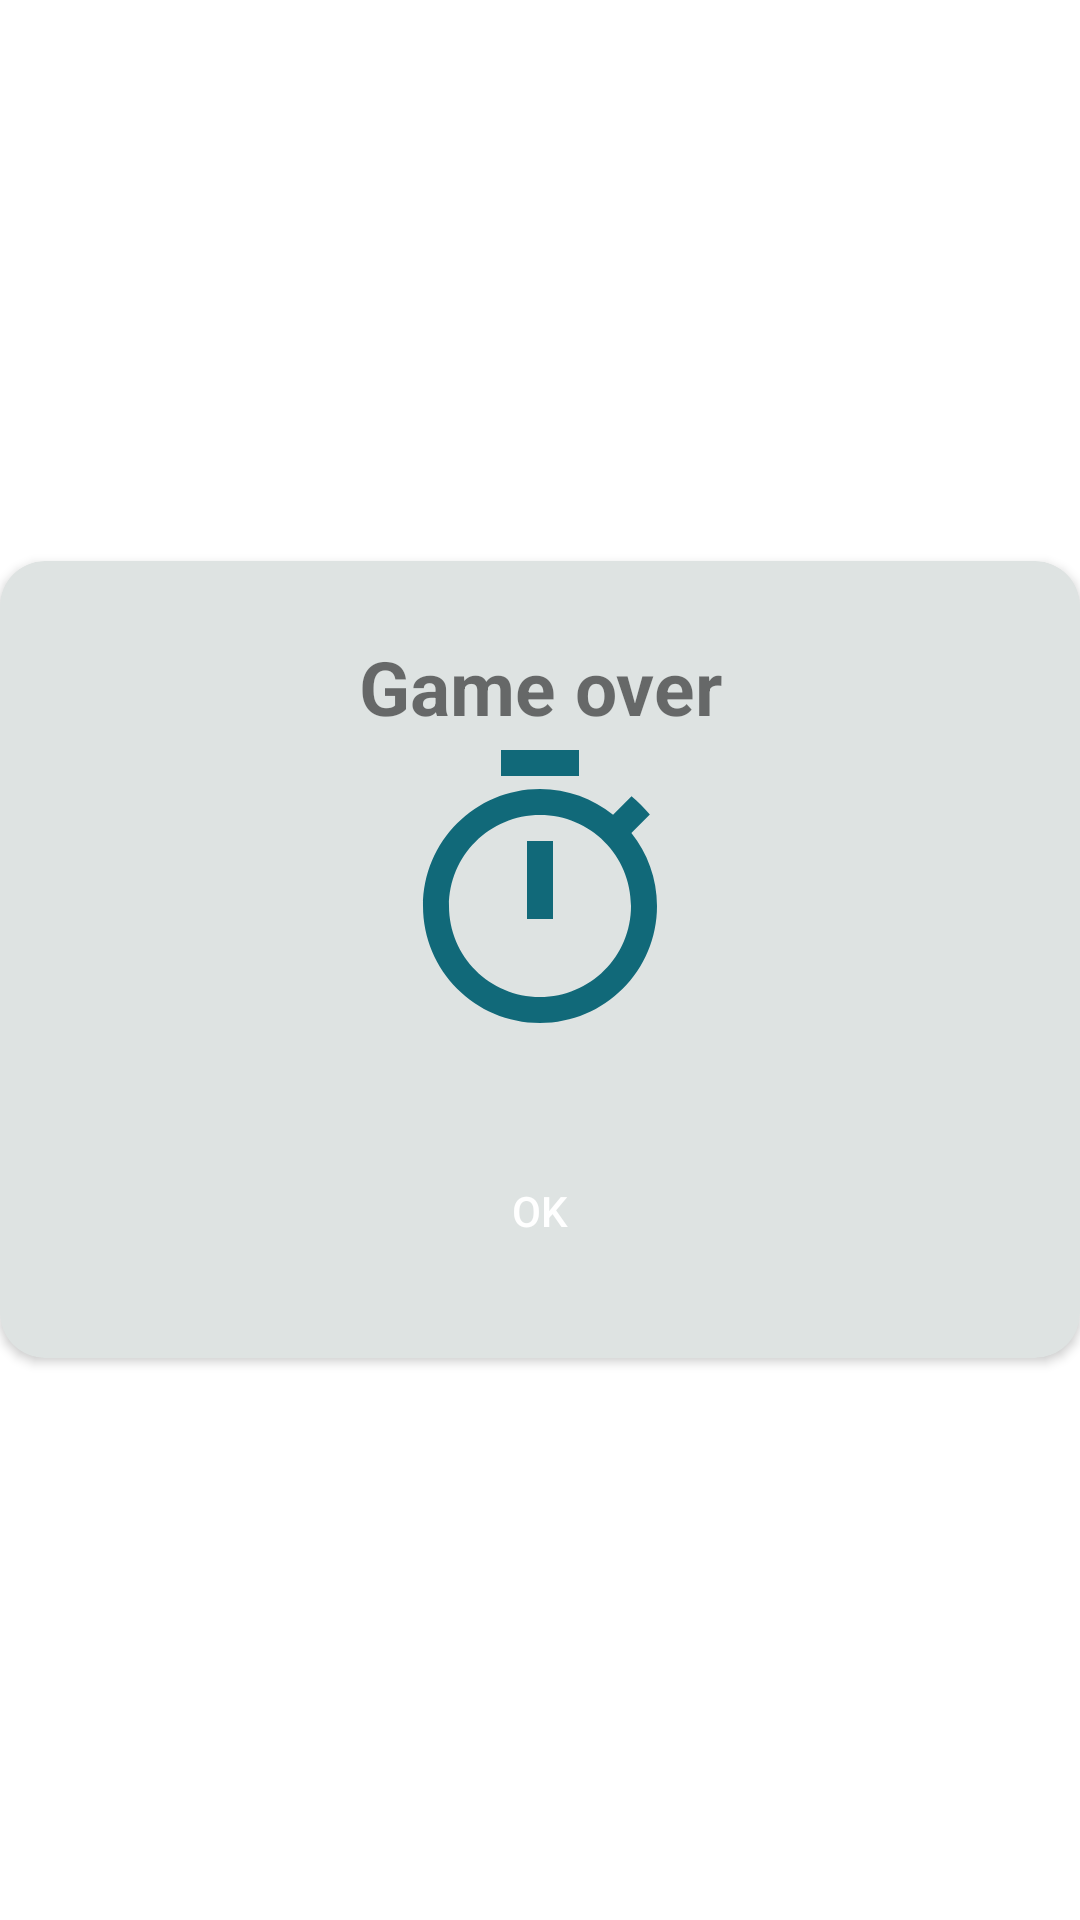

Named icons in this screenshot (1080*1920) and their bounding boxes, (x1, y1, x2, y2):
timer: (423, 750, 657, 1023)
